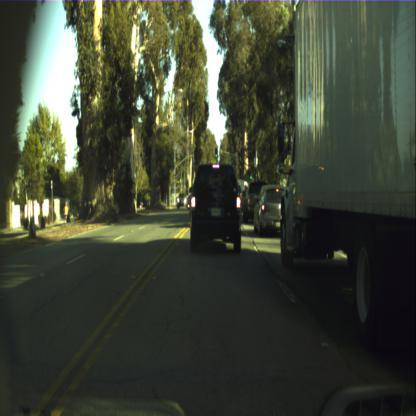Green: (214, 147, 218, 158), (254, 169, 258, 177), (249, 172, 252, 180)
